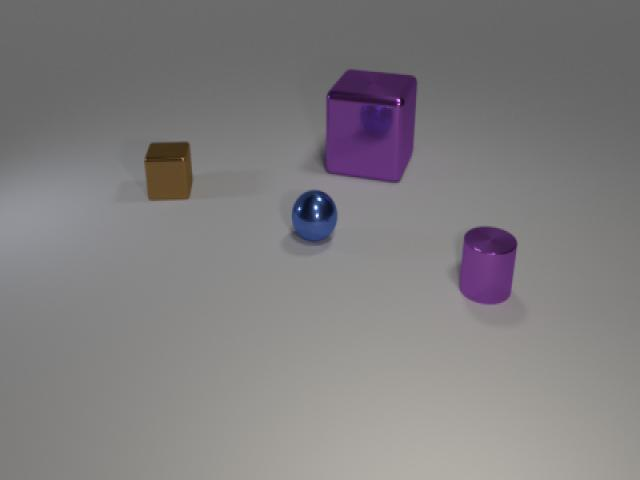cylinder: (449, 220, 524, 313)
round ball: (281, 180, 346, 253)
